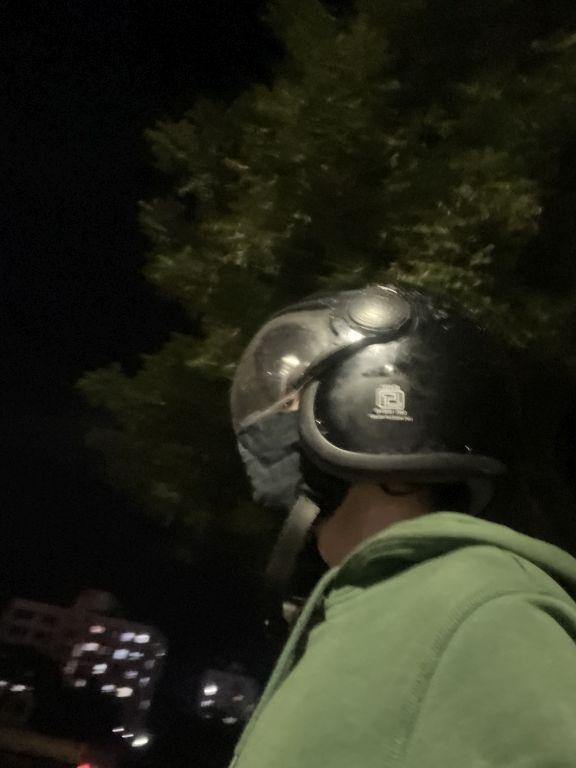helmet: (200, 254, 530, 553)
